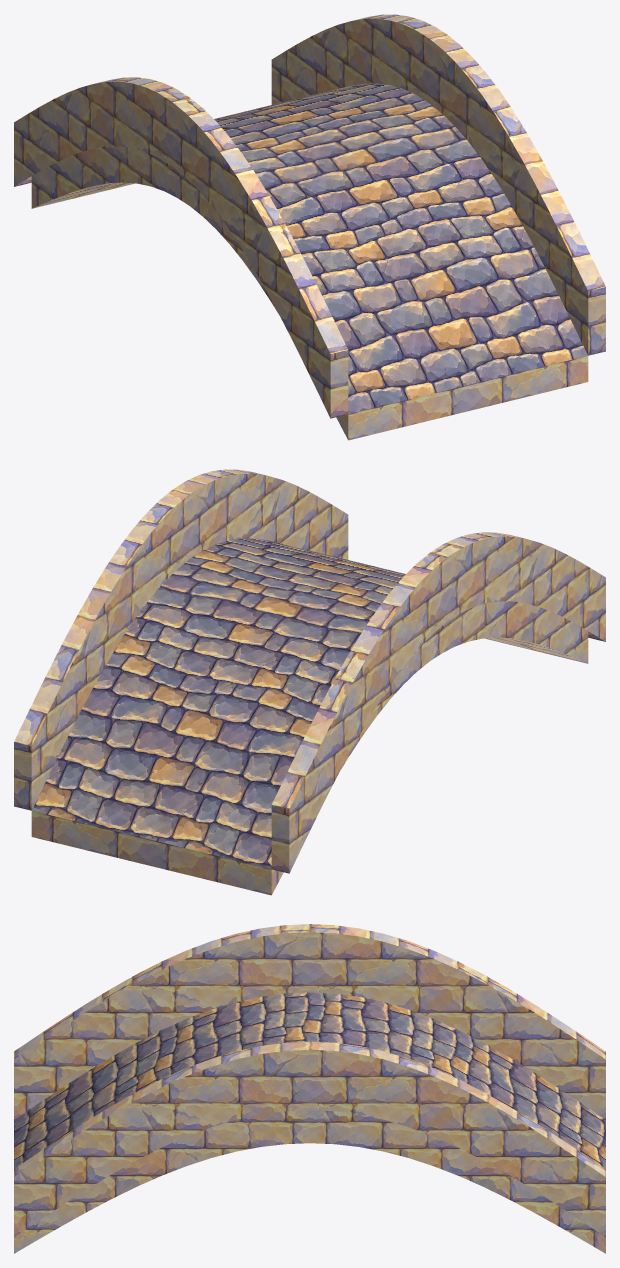
Rendered from Stone_Bridge.fbx.
The picture shows the model from 3 angles, top to bottom: view 1: azimuth 30°, elevation 25°; view 2: azimuth 150°, elevation 25°; view 3: azimuth 270°, elevation 25°; orthographic projection. The views are drawn at different scales.
Parts seen in each view (by area): view 1: Stone_Bridge.001; view 2: Stone_Bridge.001; view 3: Stone_Bridge.001.
Boxes of the visible parts, x1=… form: Stone_Bridge.001: x1=14, y1=14, x2=605, y2=440; Stone_Bridge.001: x1=14, y1=469, x2=605, y2=895; Stone_Bridge.001: x1=14, y1=924, x2=605, y2=1253.
Size of the model in its own units: 402 by 316 by 800.
2 materials, 2 textured.
